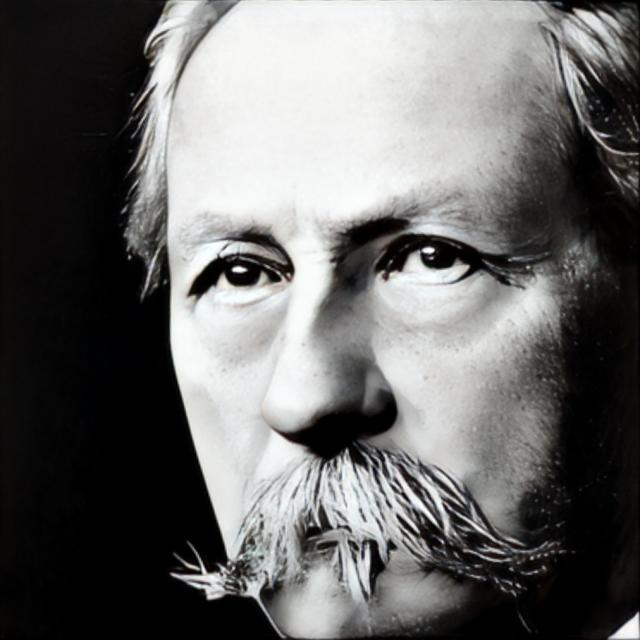anger: (164, 1, 640, 640)
